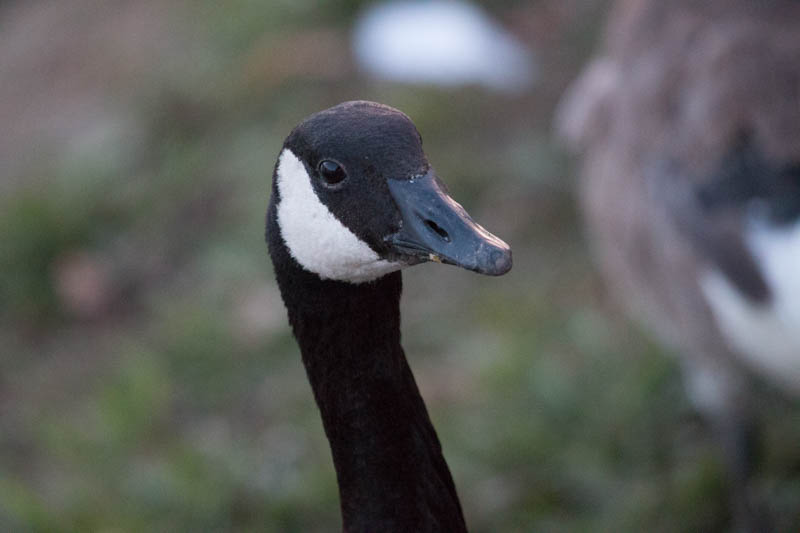goose-head: (263, 100, 512, 284)
